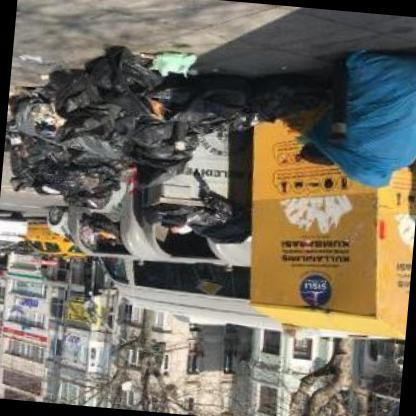Garbage: (37, 37, 190, 178), (295, 35, 415, 190), (2, 76, 131, 206), (172, 68, 316, 135)
